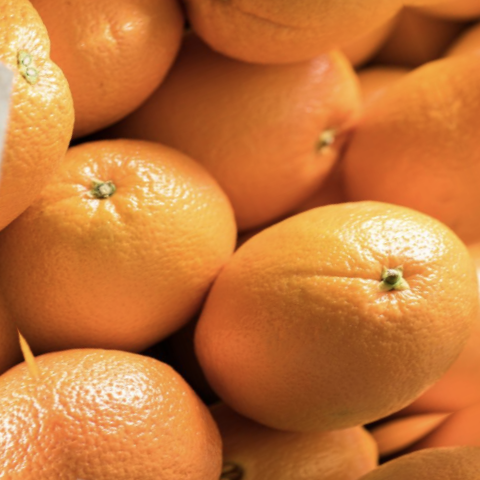orange: (146, 138, 480, 480), (0, 76, 299, 400)
